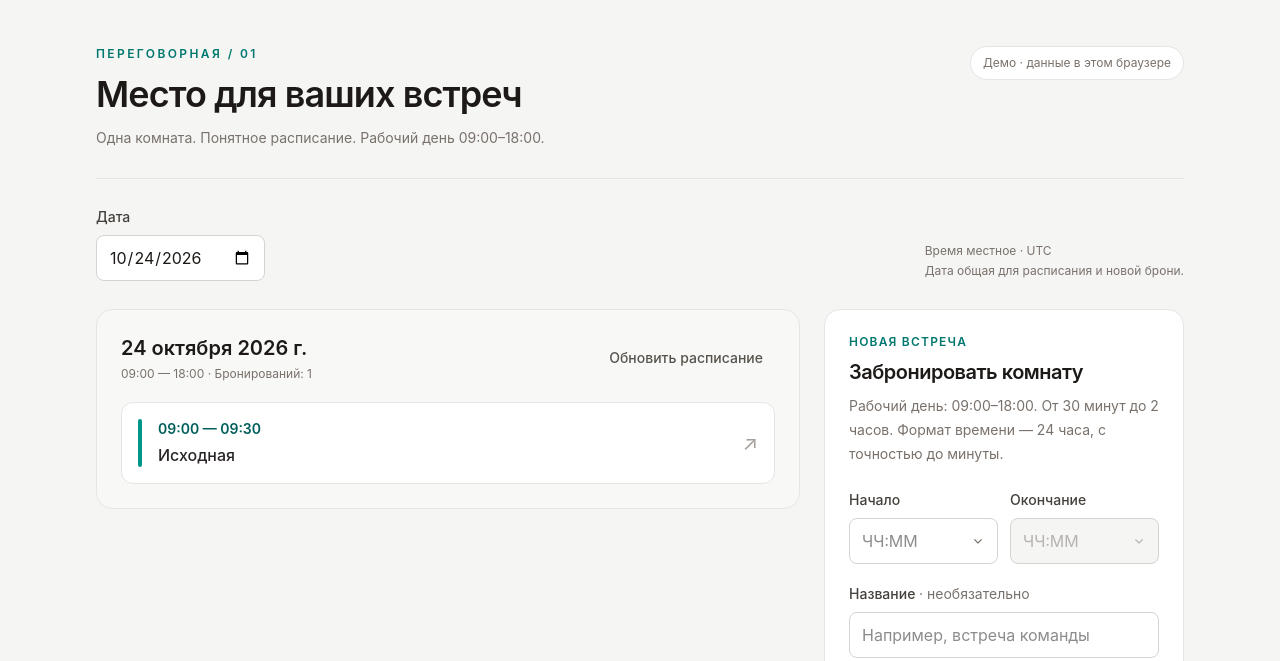
Test: booking UI through real HTTP handlers › handles a real stale-data 409 on update, keeps draft and retries
Click the button with aria-label "Редактировать Исходная" at (179, 428), box [121,402,775,484]
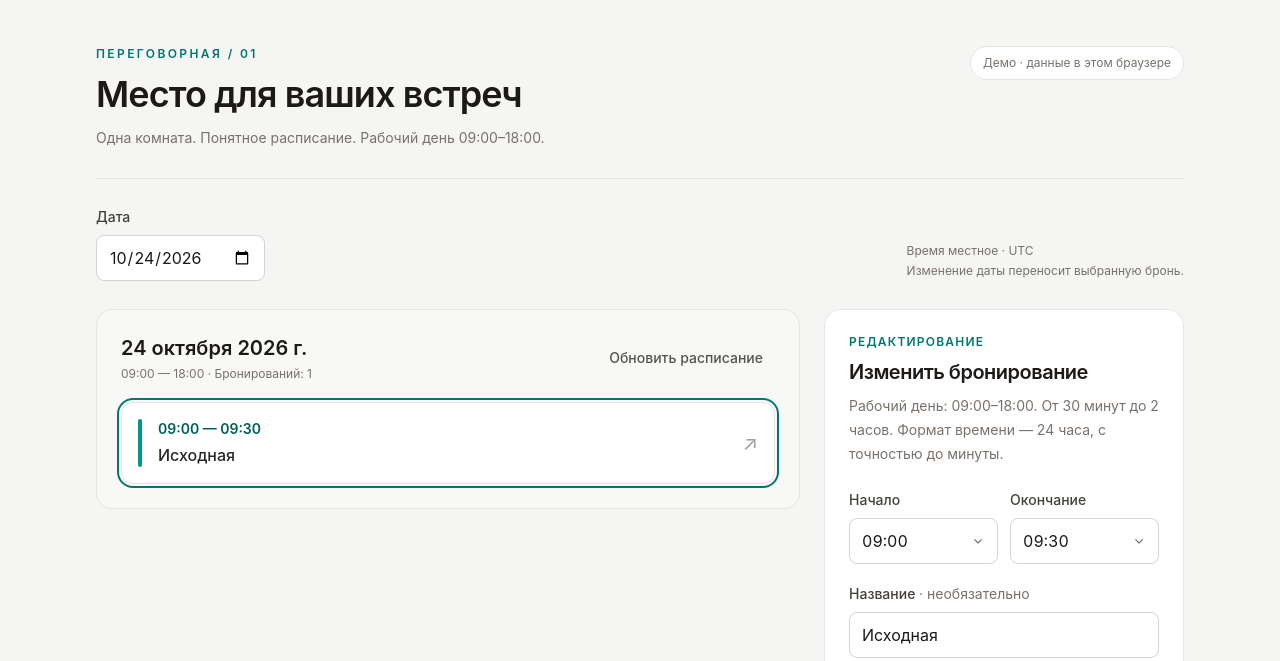
Replace the text in the dropdown labelled "Начало" with "10:00" at (924, 541), box [849,518,998,564]
Type "11:00" into the dropdown labelled "Окончание" at (1084, 541), box [1010,518,1159,564]
Replace the text in the field labelled "Название · необязательно" with "  Черновик  " at (1004, 635), box [849,612,1159,658]
(page scrolled)
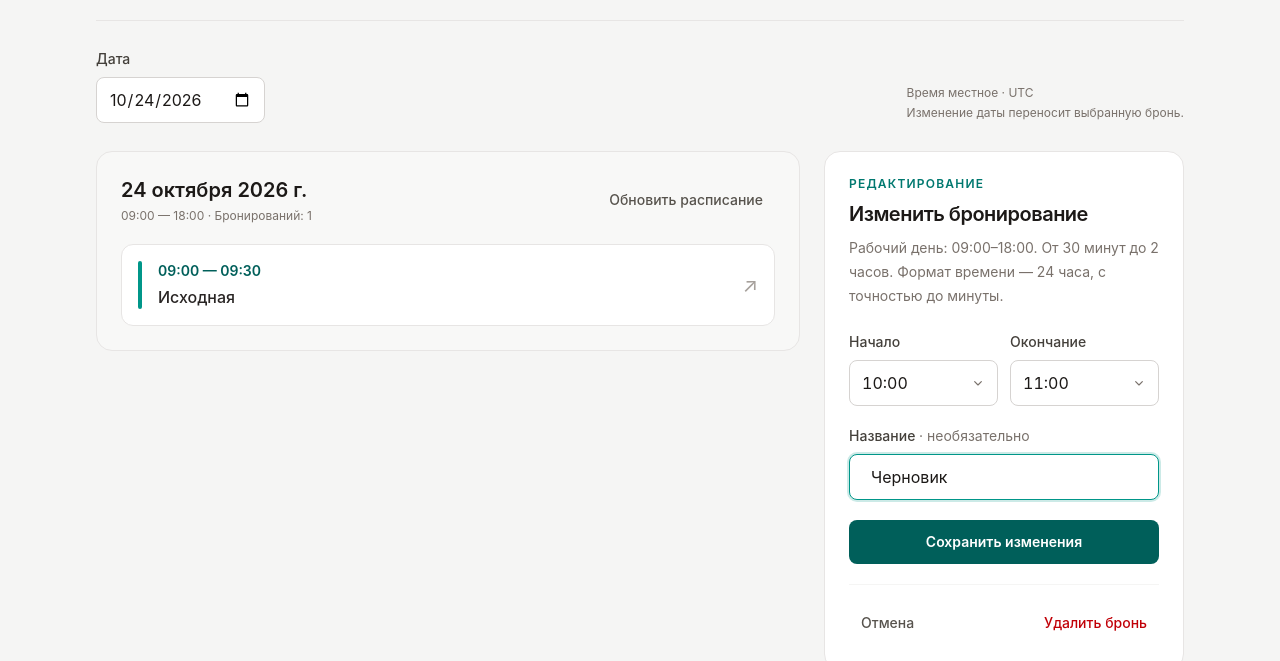
Click the button "Сохранить изменения" at (1004, 542), box [849,520,1159,564]
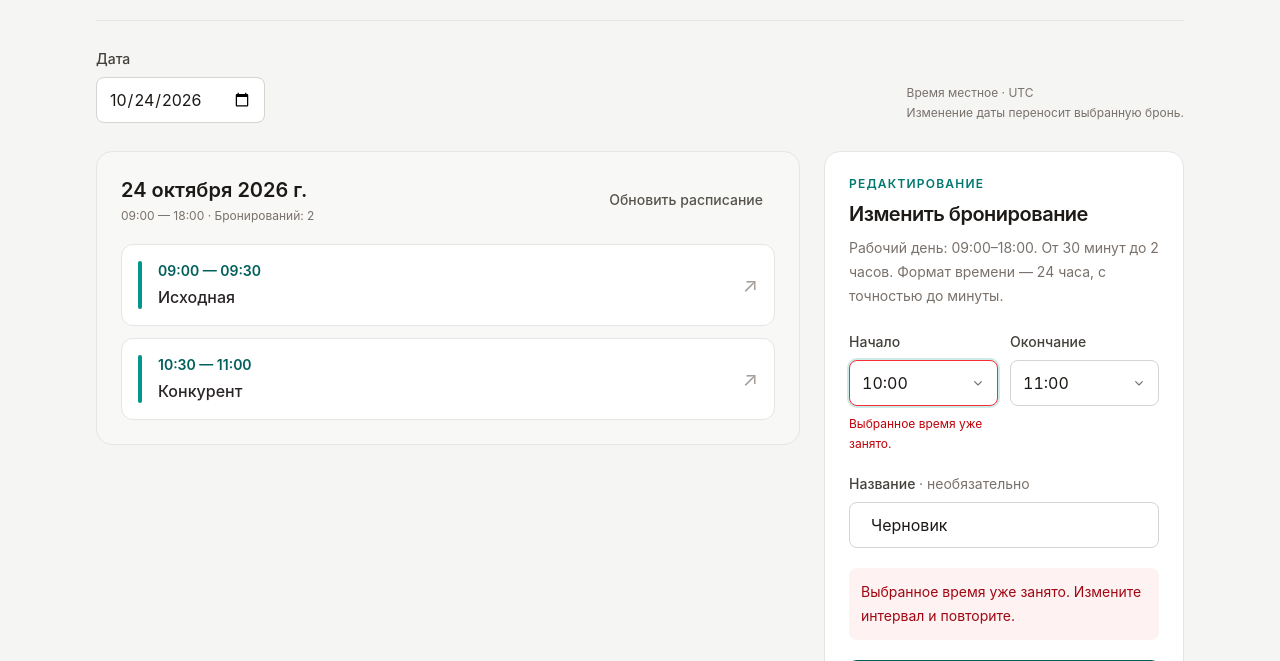
Expected: the date field labelled "Дата" holds "2026-10-24", [96,77,265,123]
Result: the text "Выбранное время уже занято. Измените интервал и повторите." is shown at [849,568,1159,640]
Result: the button with aria-label "Редактировать Конкурент" is shown at [121,338,775,420]
Replace the text in the dropdown labelled "Начало" with "11:00" at (924, 383), box [849,360,998,406]
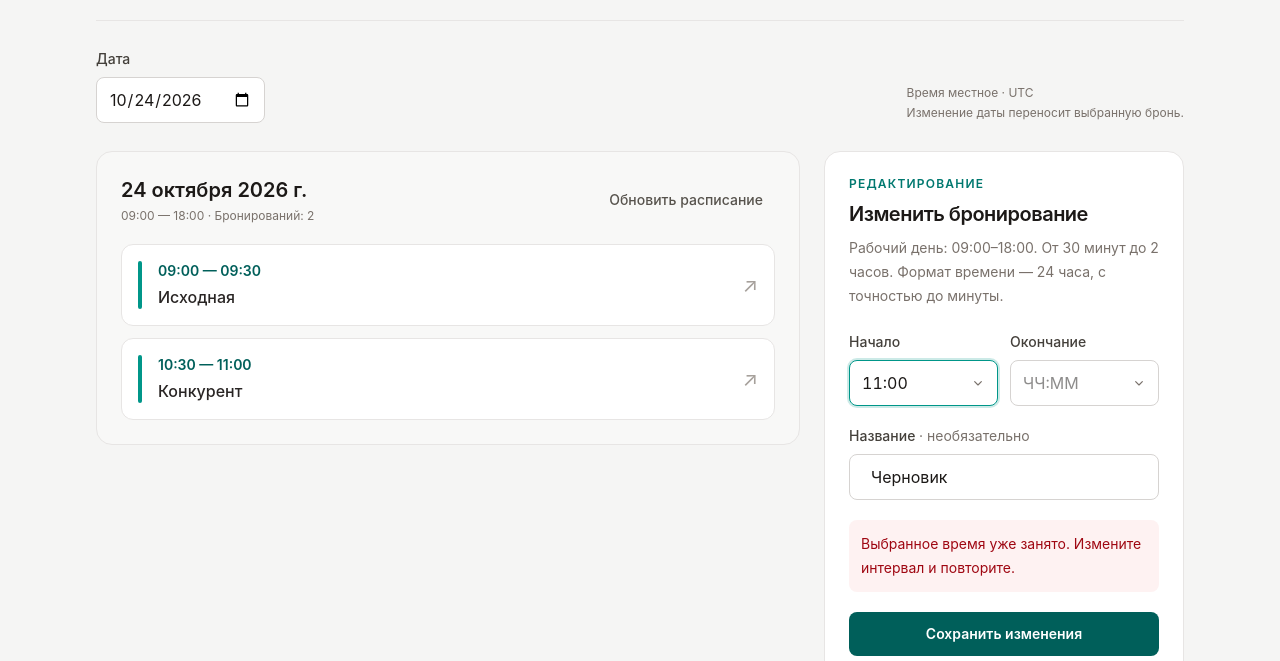
Type "12:00" into the dropdown labelled "Окончание" at (1084, 383), box [1010,360,1159,406]
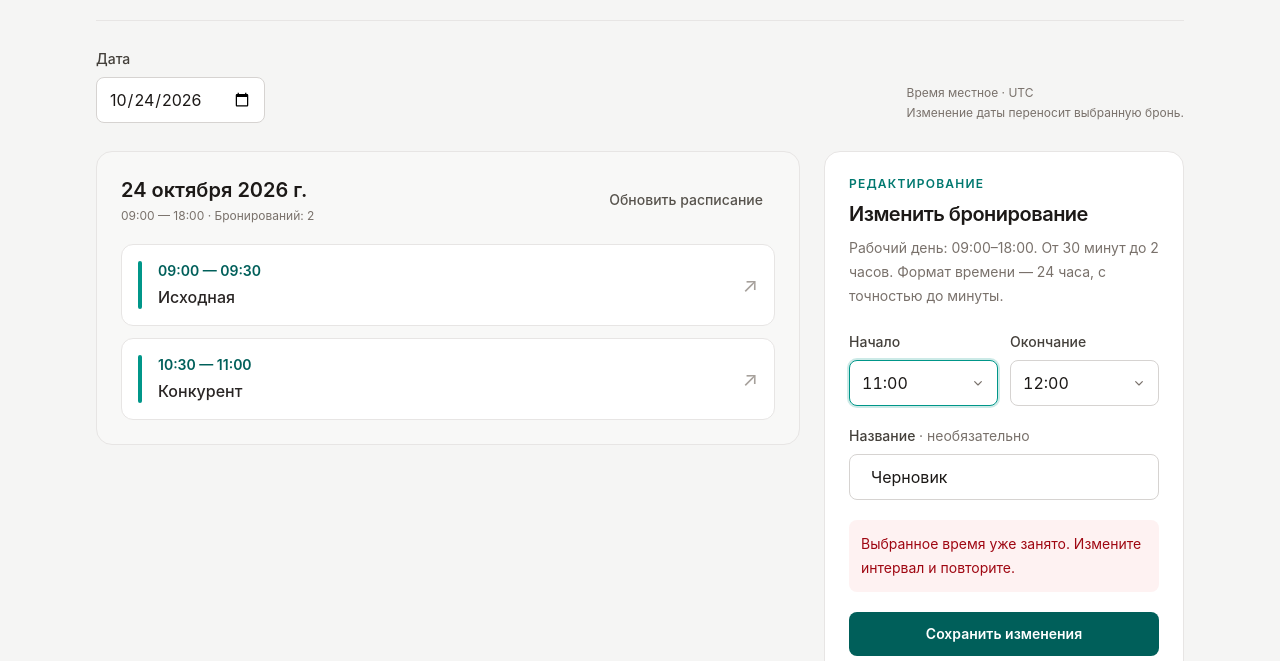
Click the button "Сохранить изменения" at (1004, 634), box [849,612,1159,656]
(page scrolled)
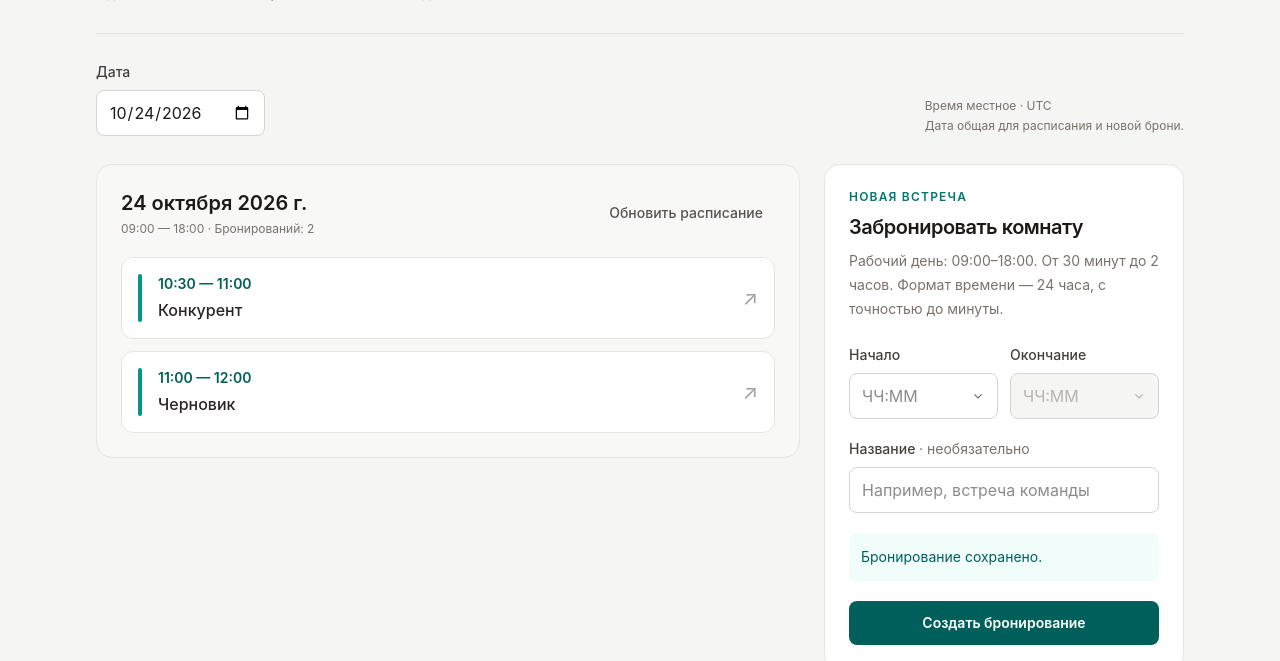
Result: the button with aria-label "Редактировать Черновик" is shown at [121,351,775,433]
